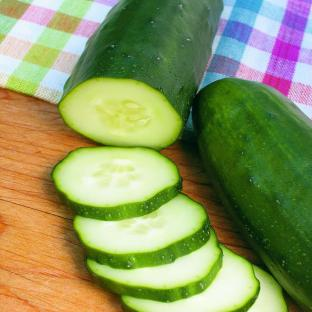Cucumber: (193, 79, 311, 310), (58, 0, 222, 150), (74, 194, 209, 268), (86, 229, 222, 302), (51, 147, 181, 220), (121, 245, 259, 311), (249, 265, 288, 311)
